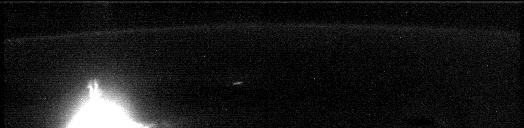positive: (82, 76, 103, 101)
